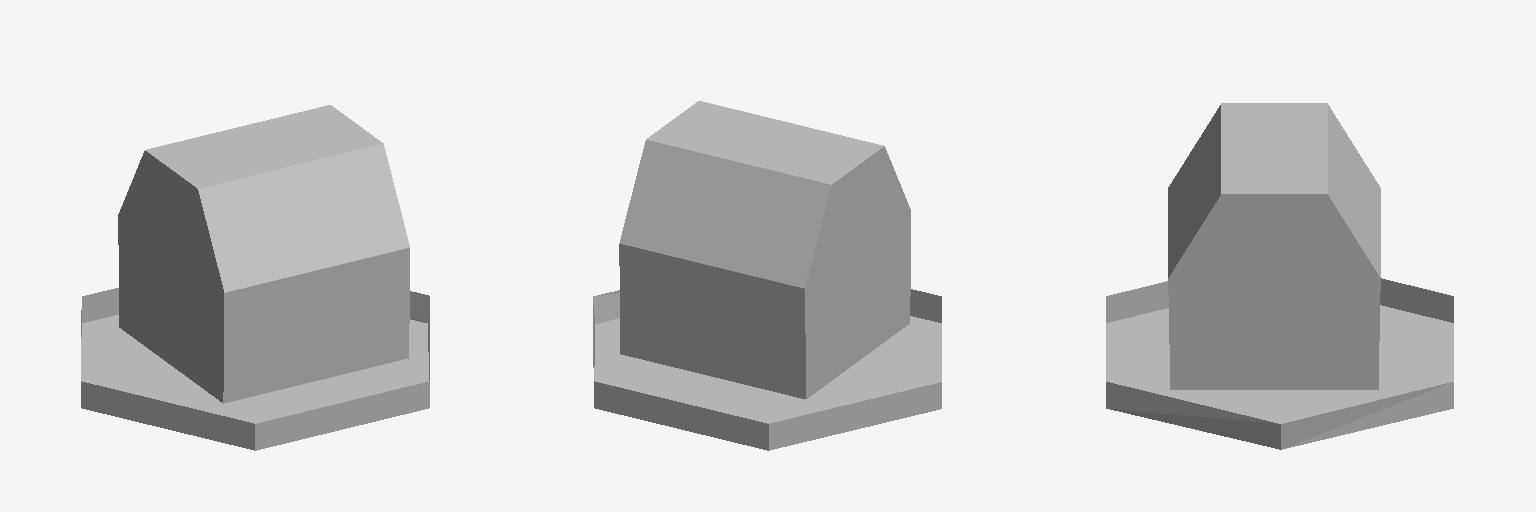
Rendered from wm2.comp.obj.
The picture shows the model from 3 angles: view 1: azimuth 30°, elevation 25°; view 2: azimuth 150°, elevation 25°; view 3: azimuth 270°, elevation 25°; orthographic projection.
Visible parts, largest first — view 1: wm2.obj; view 2: wm2.obj; view 3: wm2.obj.
Boxes of the visible parts, x1,y1,x2,y2 form: wm2.obj: [81, 105, 429, 450]; wm2.obj: [593, 101, 941, 450]; wm2.obj: [1106, 103, 1453, 449].
Bounding box in the file's own units: 2.84 × 1.7 × 2.44.